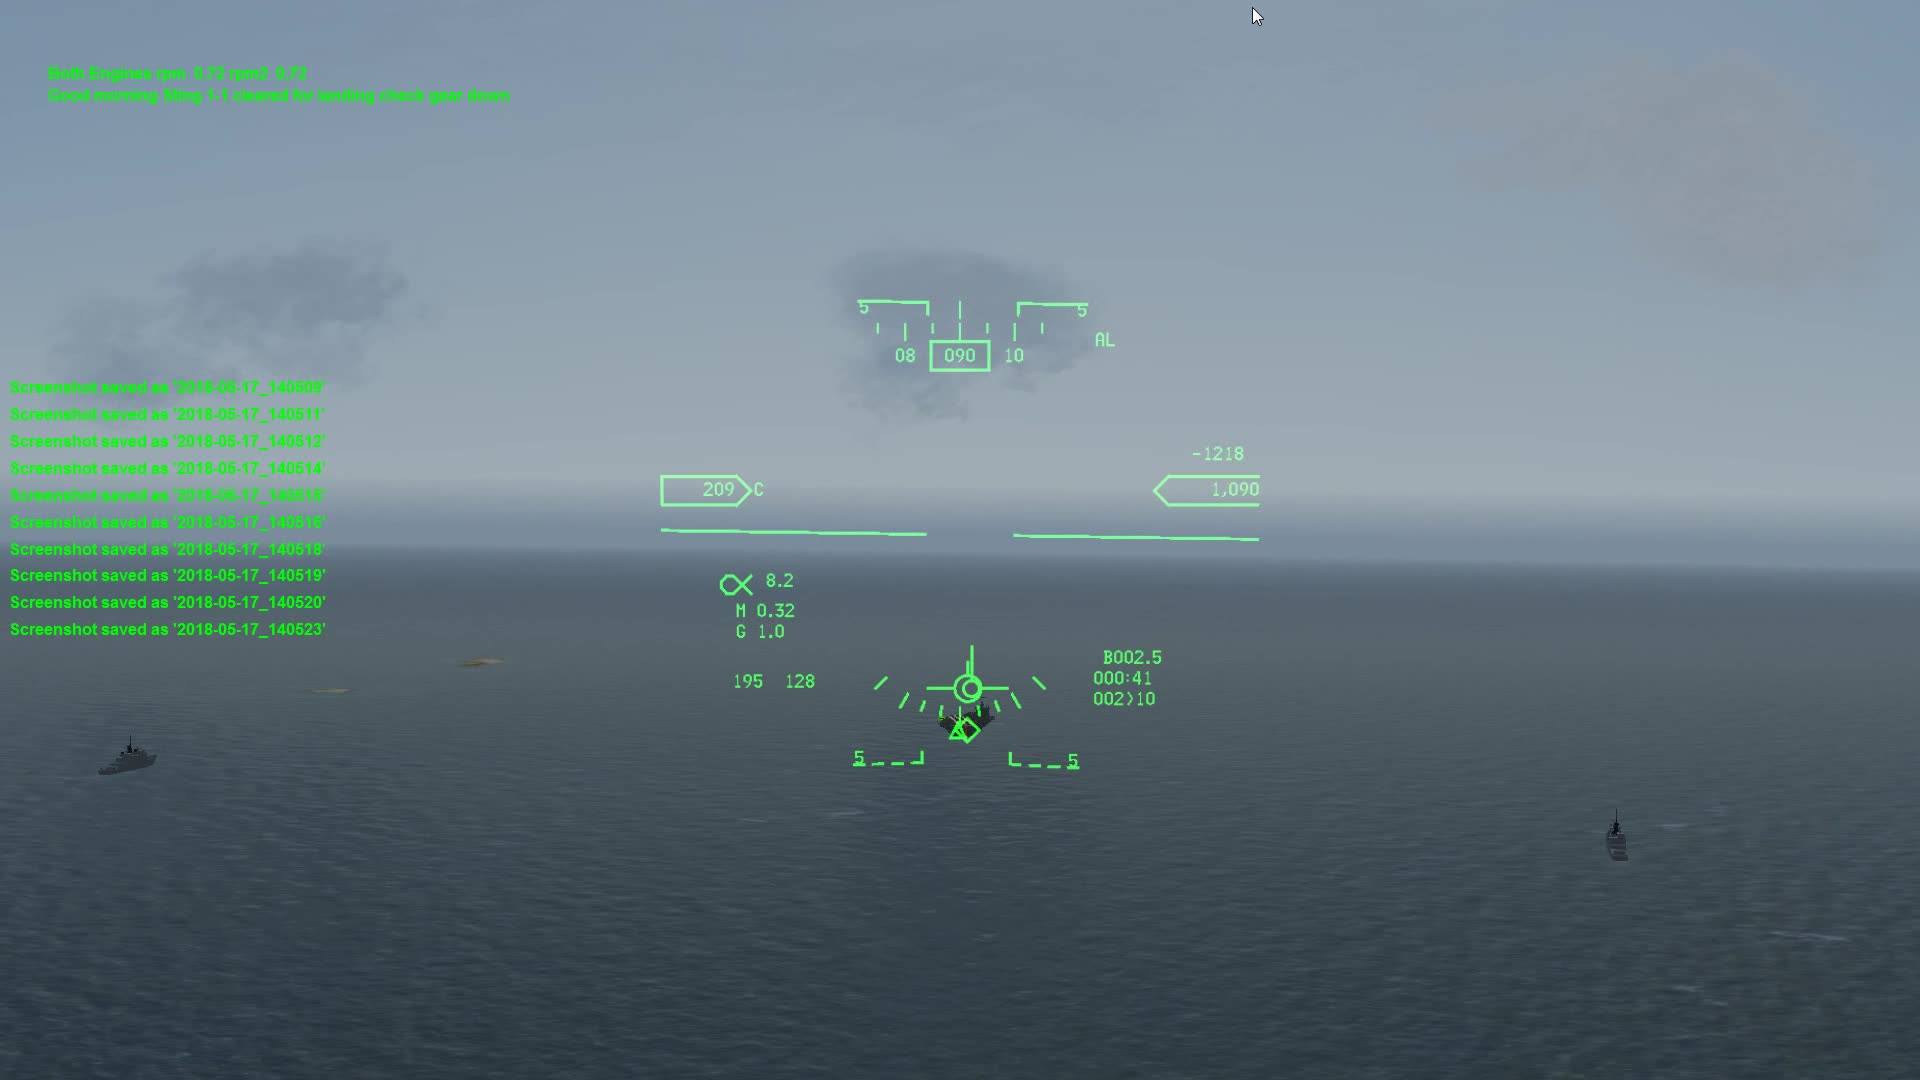speed vector: (918, 640, 1011, 708)
